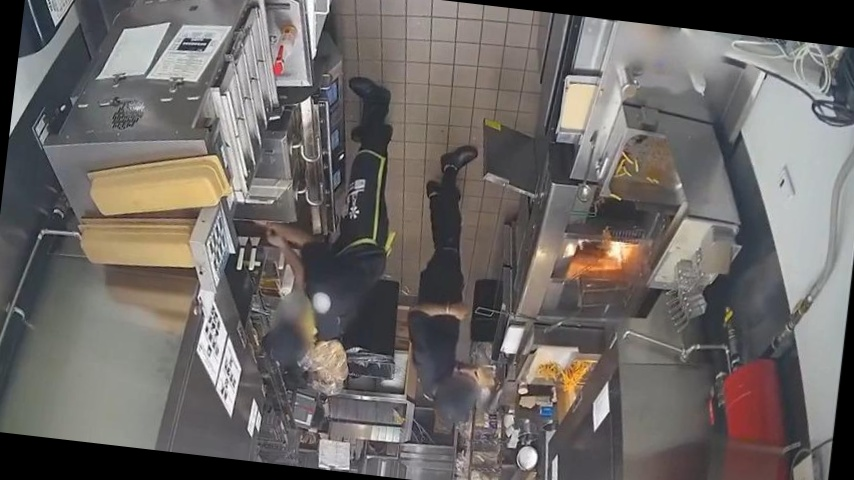fire: (551, 214, 662, 315)
